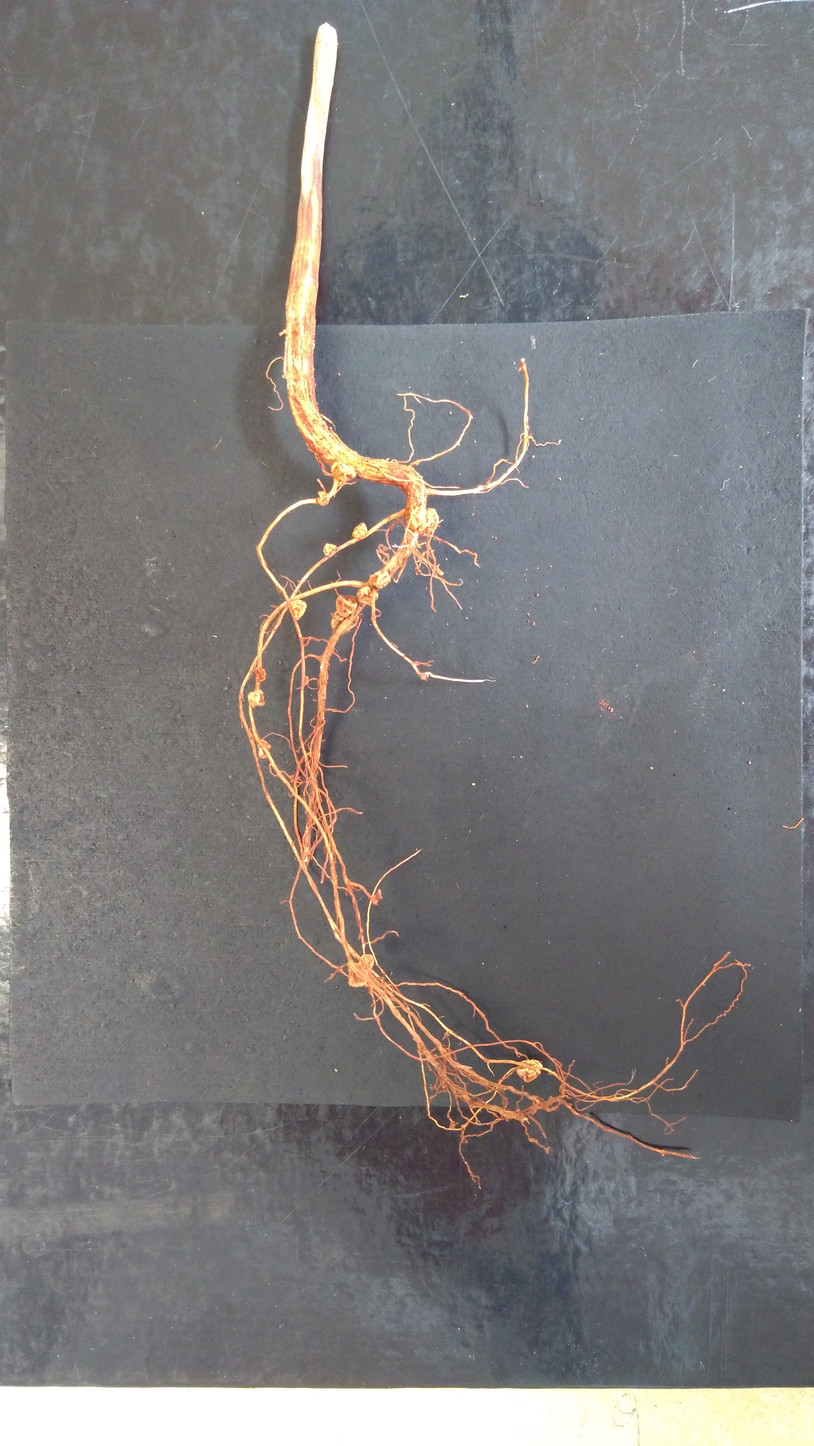nodule: (331, 609, 360, 634), (346, 961, 369, 988), (419, 507, 440, 536), (517, 1059, 543, 1082), (331, 461, 357, 482), (405, 505, 426, 530), (368, 568, 391, 590), (335, 597, 359, 617), (288, 599, 308, 622), (356, 586, 379, 604), (248, 688, 265, 708), (358, 953, 375, 971), (257, 739, 272, 759), (351, 523, 368, 538), (317, 491, 331, 506), (322, 542, 337, 556), (254, 666, 266, 683), (449, 1121, 456, 1129), (304, 675, 309, 686)
